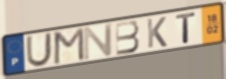B: (114, 19, 142, 57)
K: (145, 16, 169, 50)
M: (52, 26, 86, 66)
N: (82, 22, 114, 62)
T: (175, 10, 198, 45)
U: (25, 31, 53, 68)
